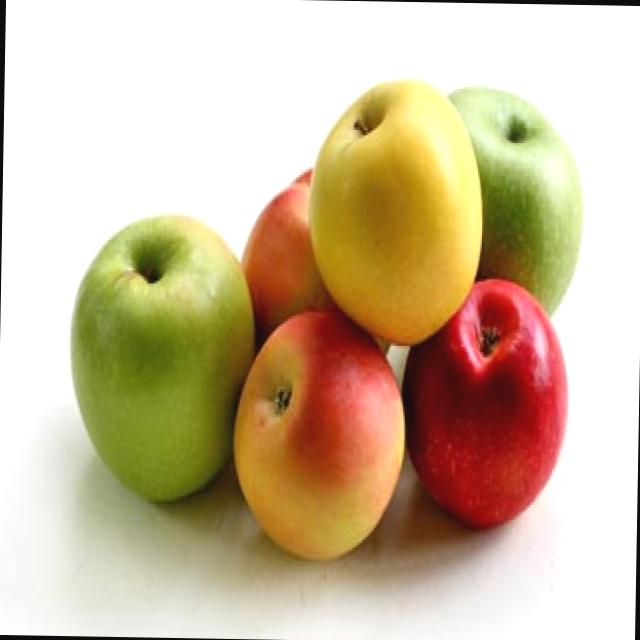alpple: (65, 207, 260, 502), (402, 267, 568, 548), (232, 307, 416, 555)
